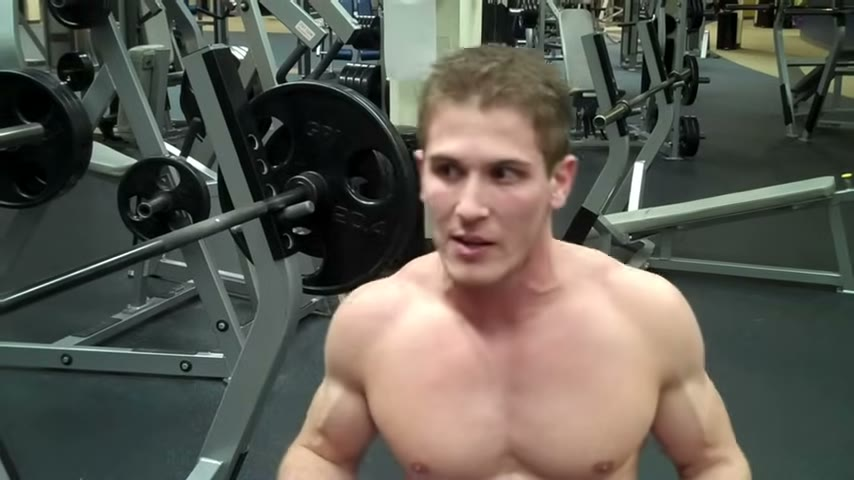barbell_plate_side: (630, 64, 853, 476), (276, 23, 444, 478), (0, 34, 105, 469)
